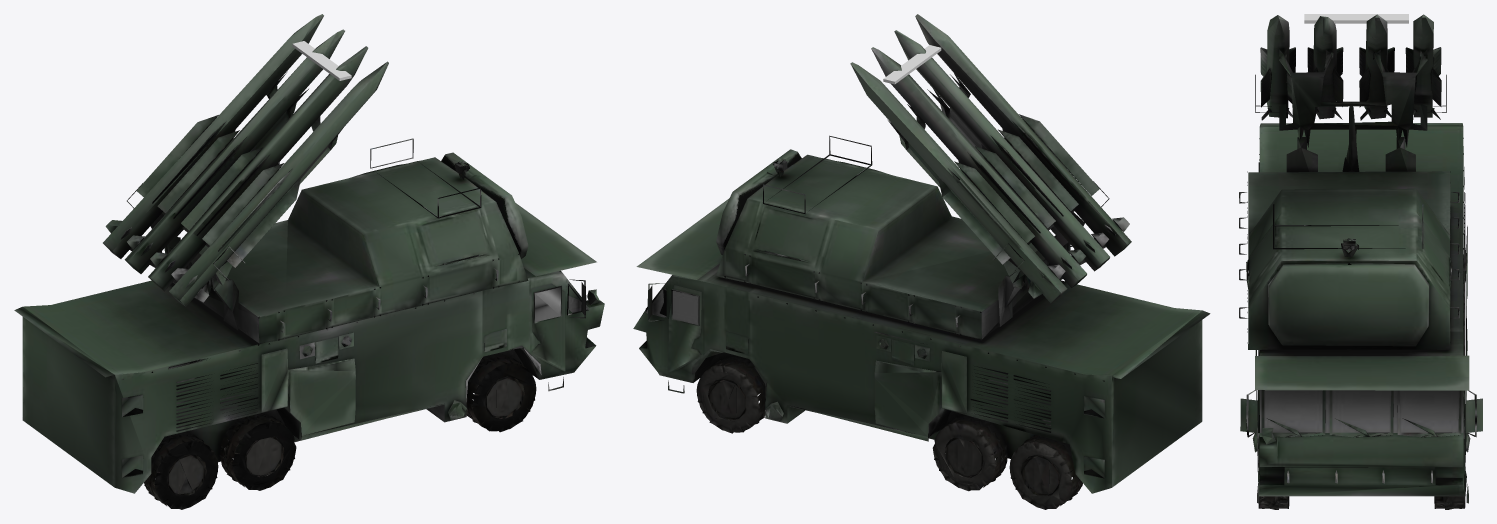
Rendered from buk.glb.
The picture shows the model from 3 angles, left to right: view 1: azimuth 30°, elevation 25°; view 2: azimuth 150°, elevation 25°; view 3: azimuth 270°, elevation 25°; orthographic projection. The views are drawn at different scales.
Parts seen in each view (by area): view 1: g_buk_hull; view 2: g_buk_hull; view 3: g_buk_hull.
Boxes of the visible parts, box(x1,y1,x2,y2) form: g_buk_hull: box(14, 14, 604, 509); g_buk_hull: box(633, 14, 1210, 509); g_buk_hull: box(1239, 14, 1482, 509).
Bounding box in the file's own units: 9.3 × 6.92 × 3.53.
Materials: 2 (1 with a texture image).
